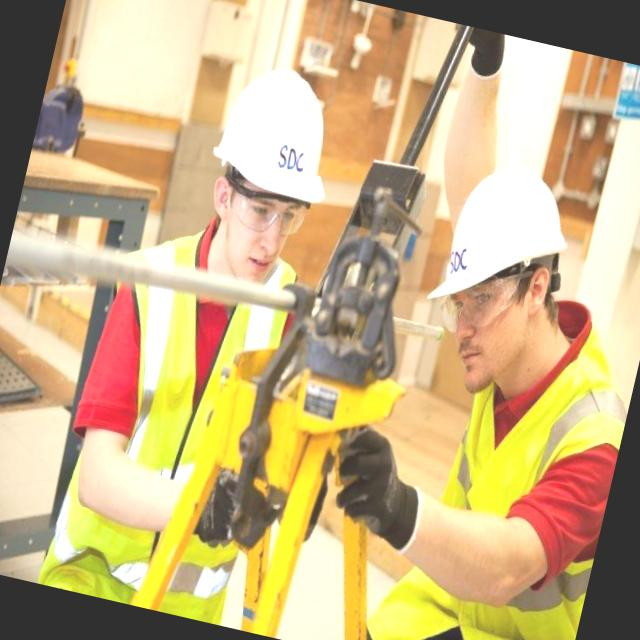helmet: (420, 156, 581, 335), (205, 50, 355, 216)
vest: (61, 228, 302, 625), (394, 344, 629, 640)
